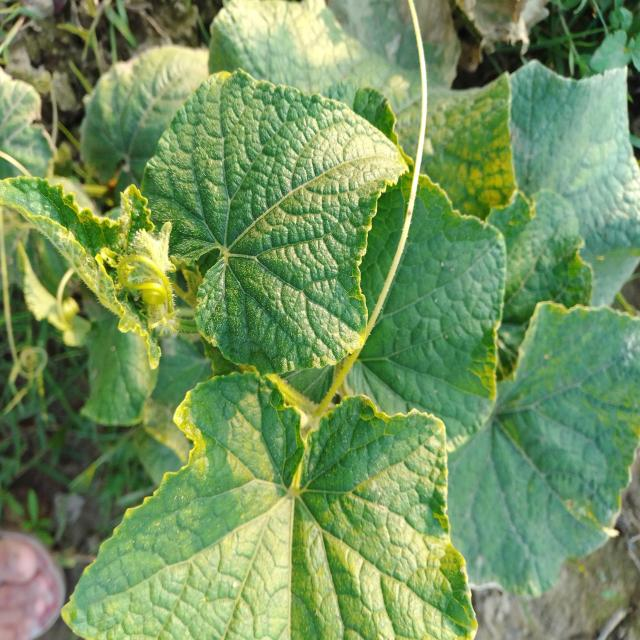cucumber_healthy: (58, 365, 484, 640), (133, 61, 412, 380), (459, 297, 640, 598), (495, 51, 640, 305)
